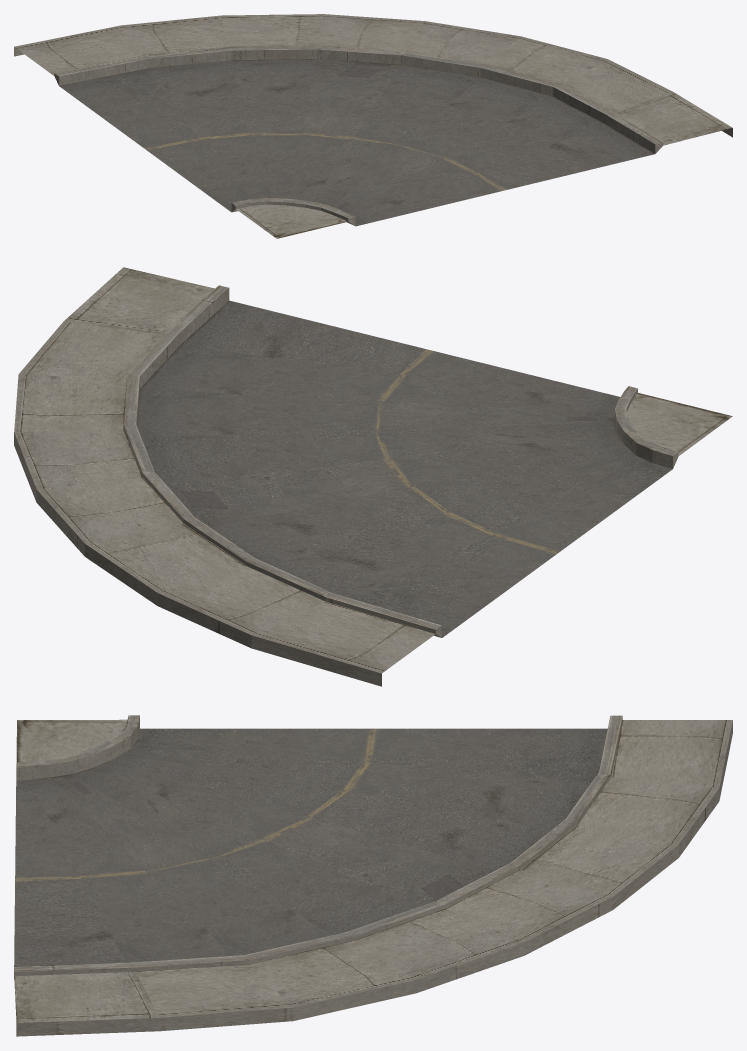
The model's file is road_corner_rotated_180.glb.
3 views of the same model, one above another, from view 1: azimuth 30°, elevation 25°; view 2: azimuth 150°, elevation 25°; view 3: azimuth 270°, elevation 25° (orthographic). The views are drawn at different scales.
Parts seen in each view (by area): view 1: corner; view 2: corner; view 3: corner.
Boxes of the visible parts, x1,y1,x2,y2 form: corner: (14,14,732,238); corner: (14,267,732,686); corner: (14,715,732,1036).
Size of the model in its own units: 10.01 by 0.2738 by 10.02.
Materials: 1 (1 with a texture image).
